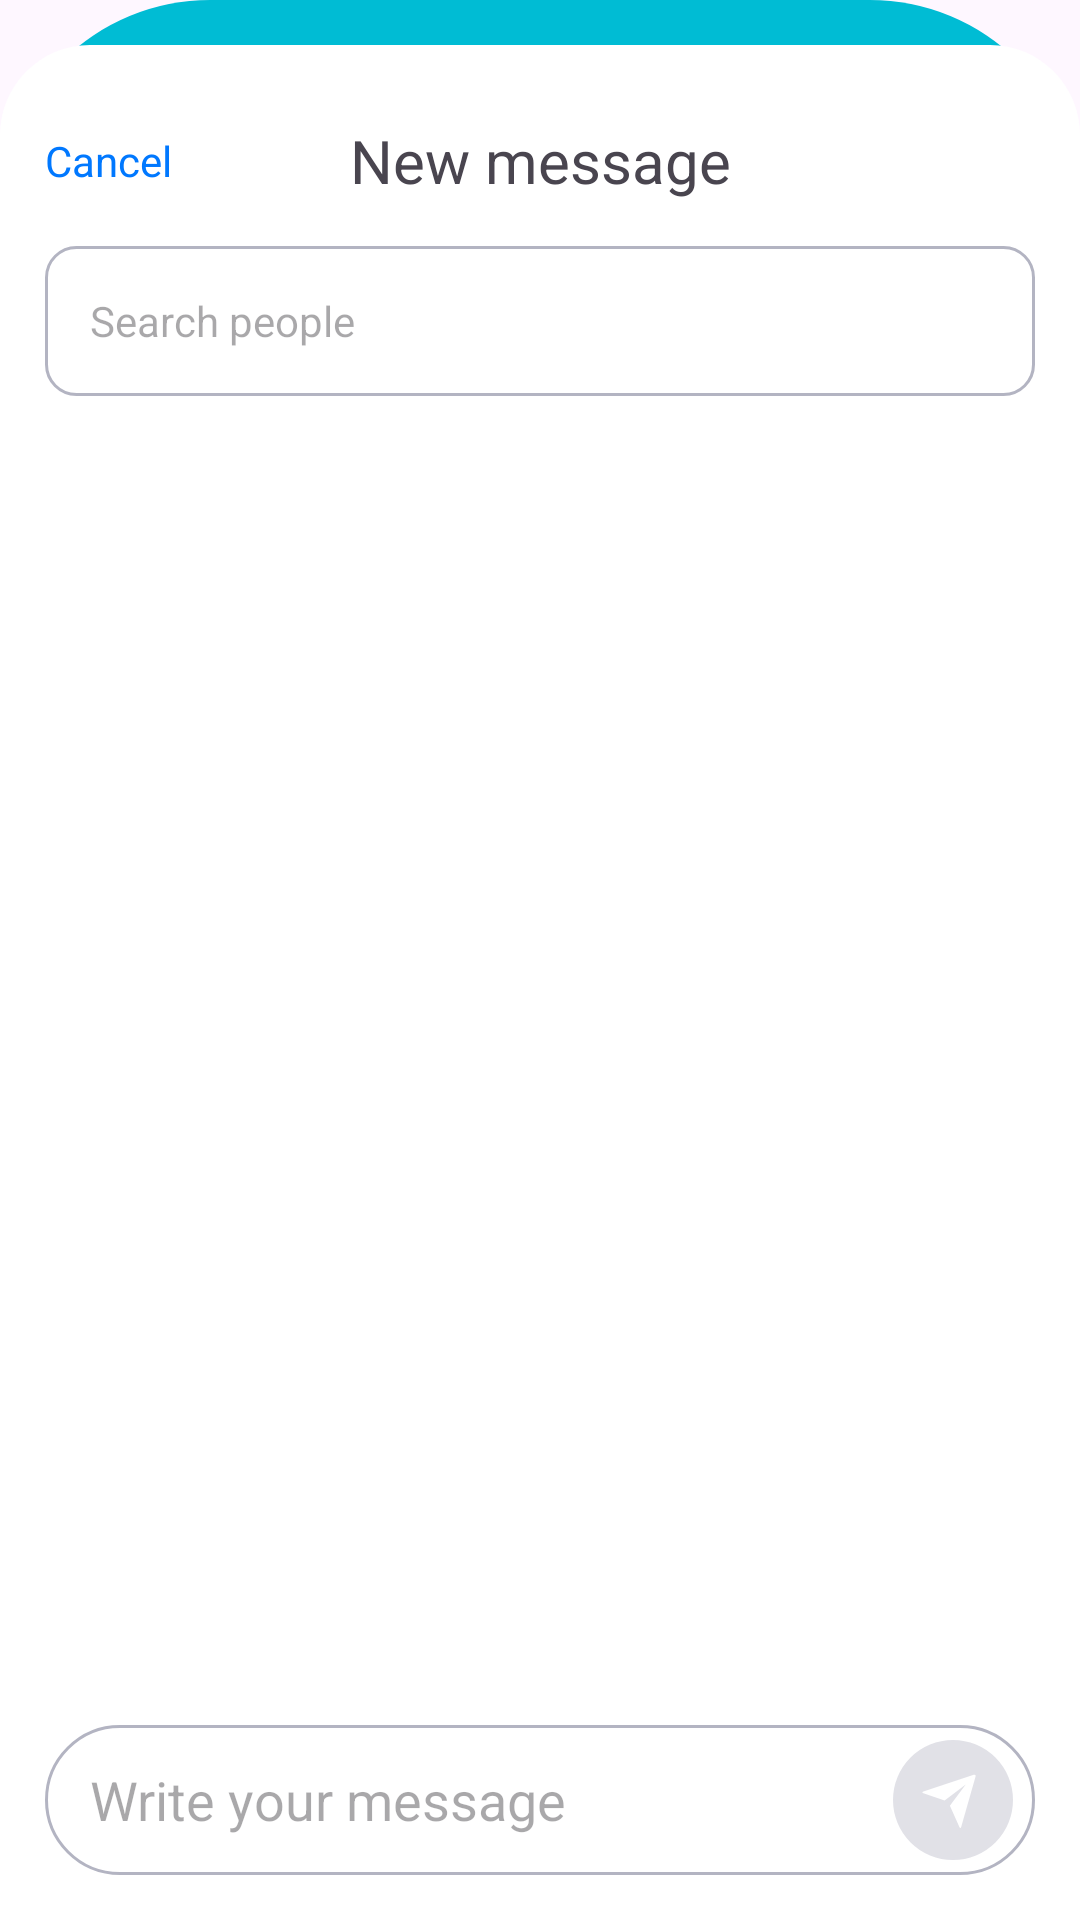

Where icons sit on this 1080px×1920px app screen, as (x1, y1, x2, y2):
fab enter chat: (893, 1740, 1013, 1860)
